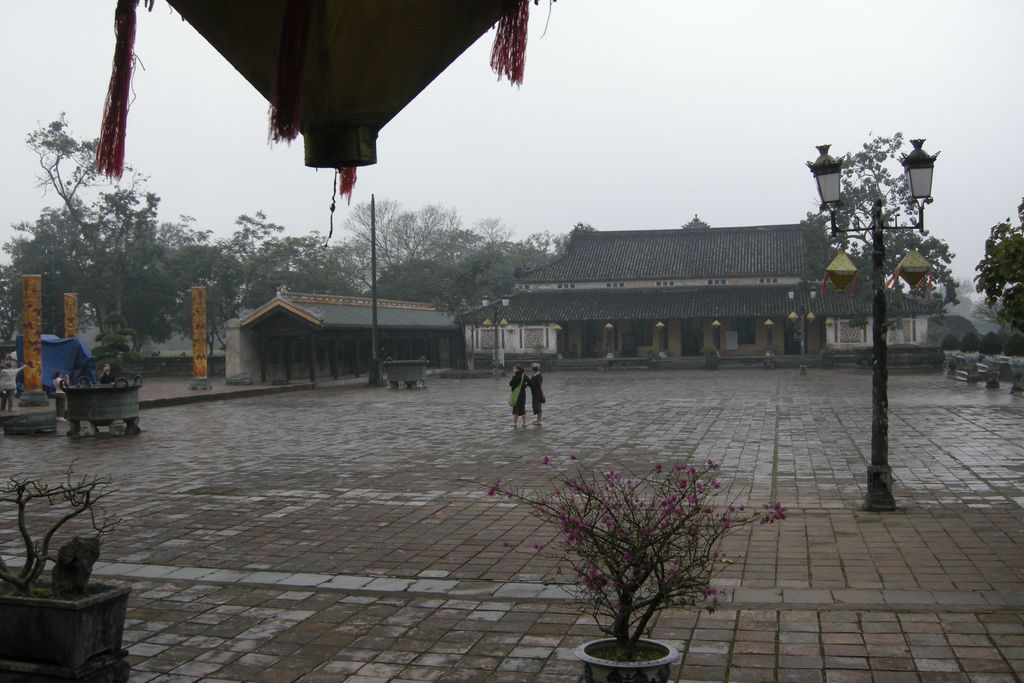Tree: (552, 458, 750, 660), (798, 132, 965, 370), (0, 191, 245, 353), (238, 197, 593, 307), (20, 107, 161, 370), (0, 456, 121, 593), (204, 210, 307, 356), (935, 199, 1023, 357)
